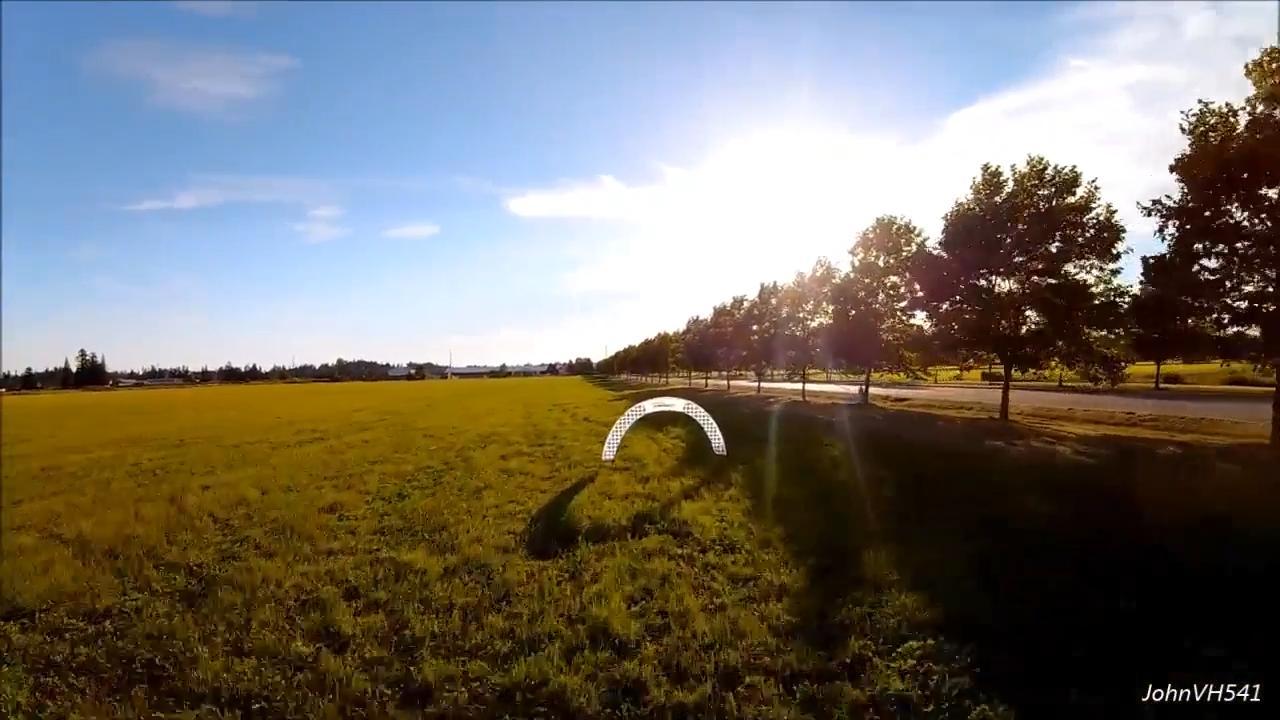gate: (600, 396, 729, 460)
